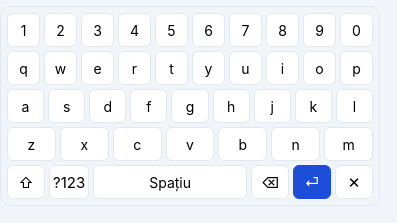
Test: OnScreenKeyboard.vue › switches to the symbol layout
Click the button with class "osk-key-mod" showing "?123" at (69, 182), box [49, 165, 89, 199]
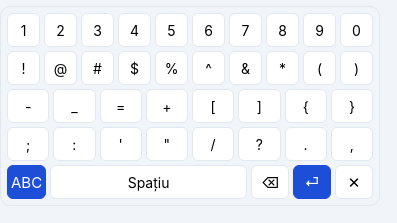
Check: the button with class "osk-key" showing "@" is shown, box [44, 51, 77, 85]
